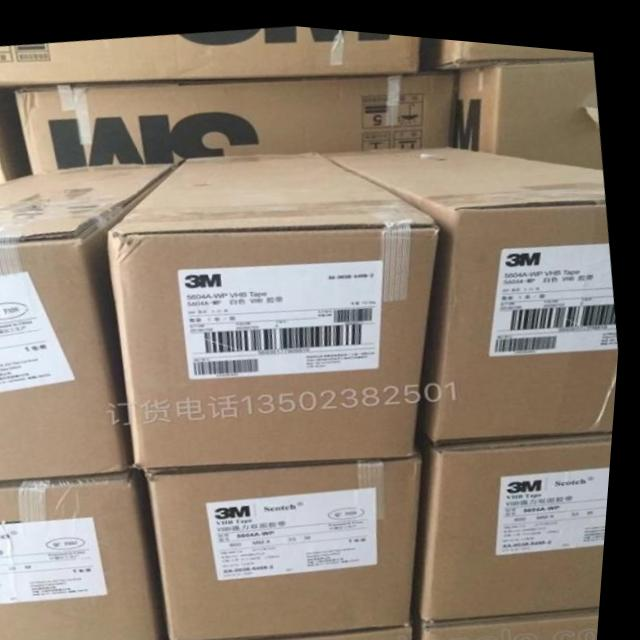box: (109, 146, 445, 467), (322, 137, 622, 438), (0, 160, 180, 481), (145, 448, 429, 640), (12, 63, 459, 173), (421, 421, 618, 617), (0, 467, 178, 640), (0, 21, 426, 85), (455, 47, 604, 158), (424, 597, 608, 640), (421, 30, 594, 66), (202, 616, 424, 640), (0, 85, 31, 184)
